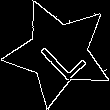L_NW: (30, 24, 87, 82)
